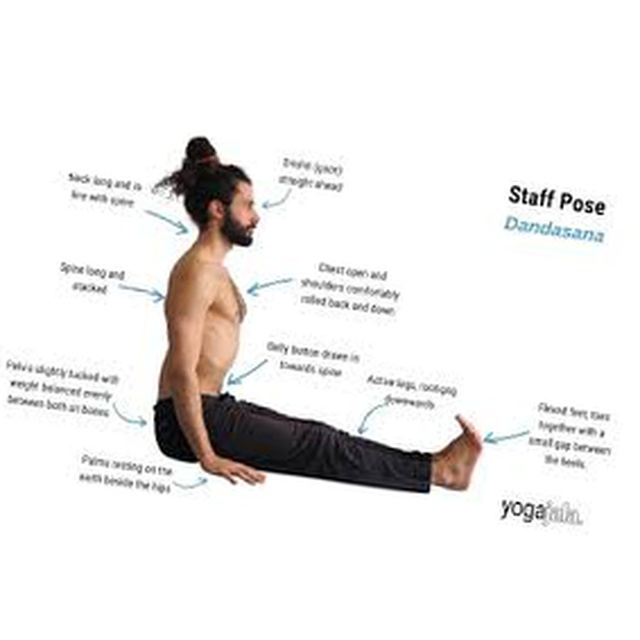Staff_Pose: (154, 138, 482, 494)
